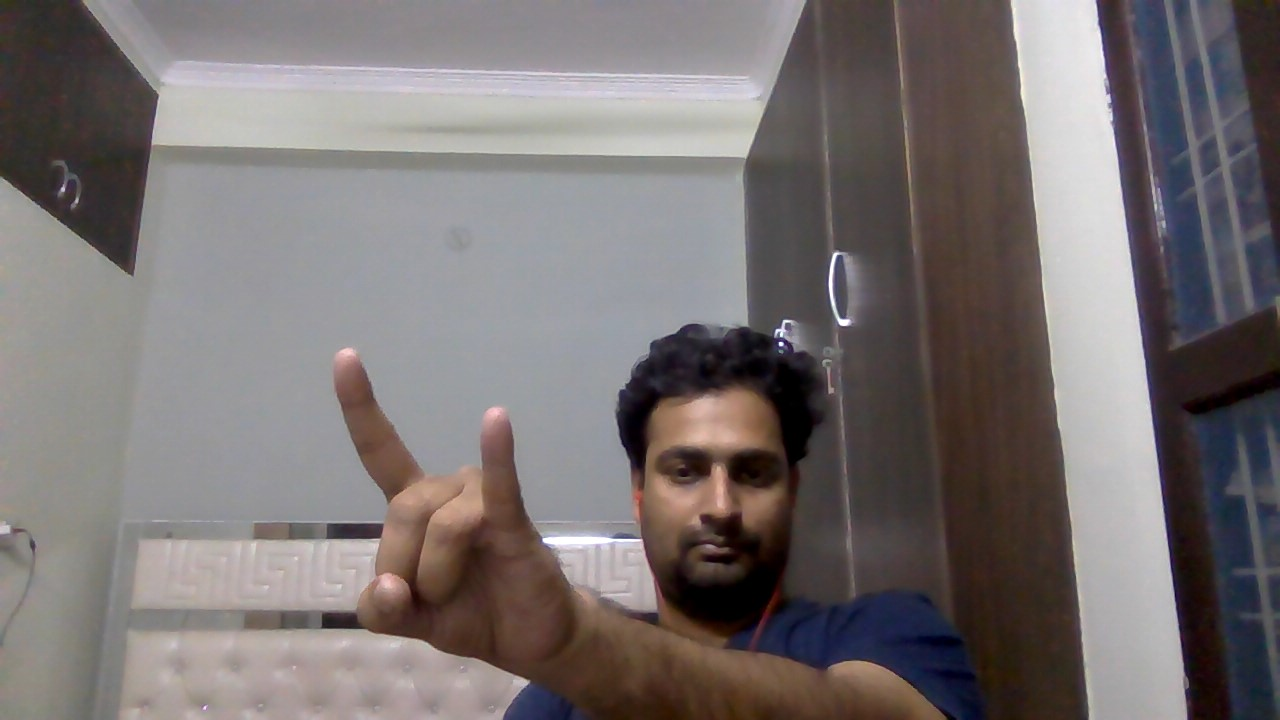Select All: (315, 344, 578, 678)
